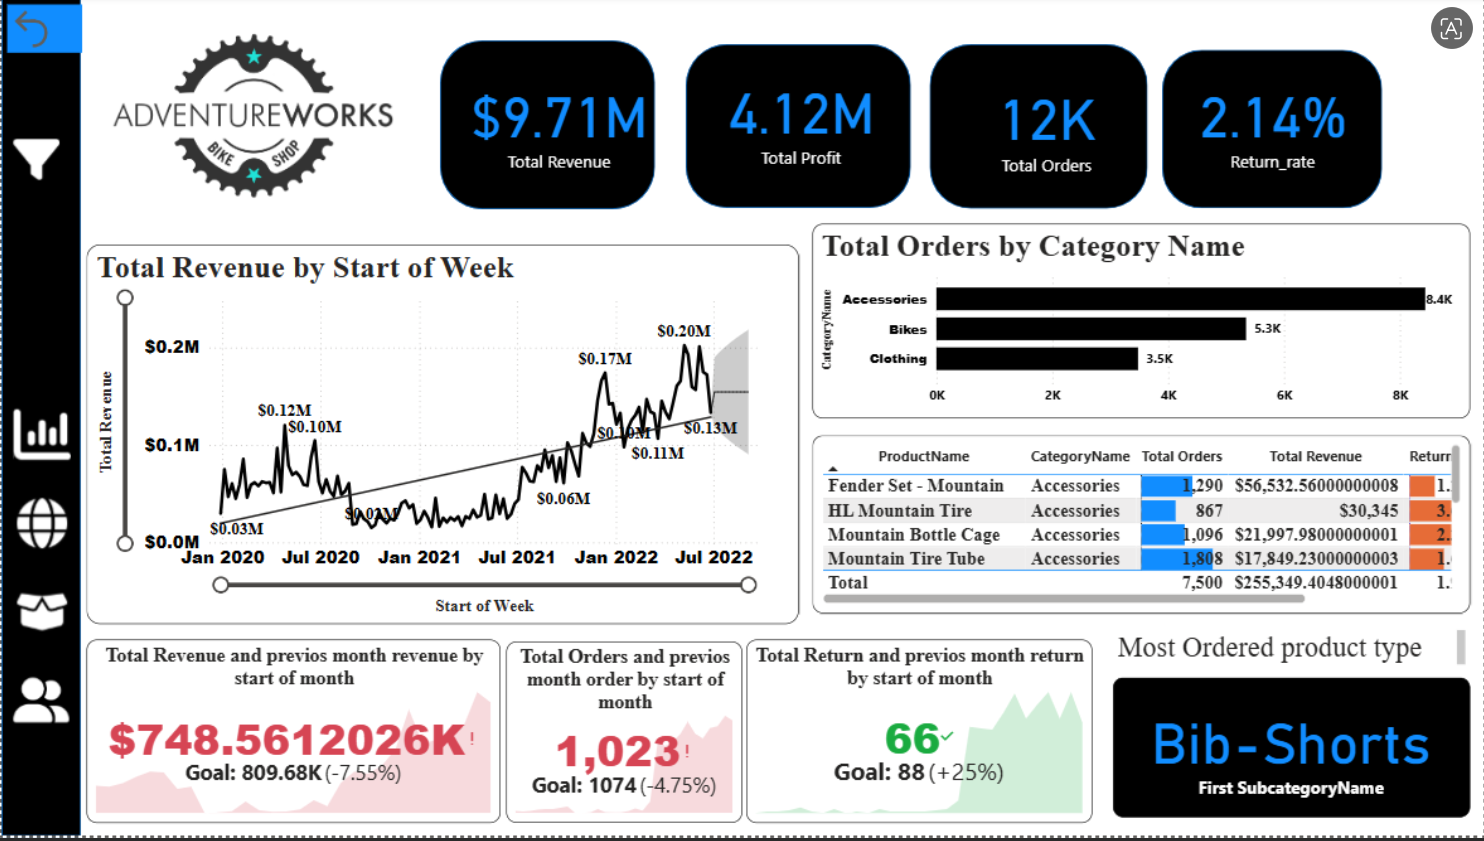

What the dashboard file says about the page in this screenshot:
{"tool":"powerbi","page":{"name":"Dashboard","canvas":[1410,800],"ordinal":0},"visuals":[{"type":"card","fields":{"Values":["Measure Table.Total Revenue"]},"box":[352.6,4.3,355.7,231.4],"z":0,"group":"g2"},{"type":"group","id":"g1","title":"KPIcards","box":[417.3,43.6,898,159.5],"z":0,"group":"g3"},{"type":"shape","box":[417.3,43.6,204.6,160.7],"z":0,"group":"g1"},{"type":"clusteredBarChart","title":"Total Orders by Category Name","fields":{"Category":["Product Categories Lookup.CategoryName","Territory Lookup.Continent Hierarchy.Continent","Territory Lookup.Continent Hierarchy.Region","Territory Lookup.Continent Hierarchy.Country"],"Y":["Measure Table.Total Orders"]},"box":[771.8,217.7,626.1,185.3],"z":0},{"type":"group","id":"g2","title":"kpi values","box":[352.6,0,975,238.3],"z":1000,"group":"g3"},{"type":"card","fields":{"Values":["Measure Table.Total Profit"]},"box":[582.4,0,355.9,231.6],"z":1000,"group":"g2"},{"type":"actionButton","box":[425.7,31.4,100,72.9],"z":1000},{"type":"shape","box":[1104.9,52.6,209.4,150.9],"z":1000,"group":"g1"},{"type":"group","id":"g3","title":"kpis","box":[352.6,0,976.9,237.5],"z":2000},{"type":"card","fields":{"Values":["Measure Table.Total Orders"]},"box":[816.1,7.7,355.6,230.6],"z":2000,"group":"g2"},{"type":"shape","box":[884.2,46.9,207.6,156.6],"z":2000,"group":"g1"},{"type":"card","fields":{"Values":["Measure Table.Return_rate"]},"box":[1092.1,4.5,235.4,232.2],"z":3000,"group":"g2"},{"type":"shape","box":[651.5,47,214.3,155.9],"z":3000,"group":"g1"},{"type":"lineChart","fields":{"Y":["Measure Table.Total Revenue"],"Category":["Calendar Lookup.Start of Week"]},"box":[81,237.5,678.3,361.6],"z":3000},{"type":"kpi","fields":{"Indicator":["Measure Table.Total Revenue"],"TrendLine":["Calendar Lookup.start of month"],"Goal":["Measure Table.previos month revenue"]},"box":[81,613.5,394,174.5],"z":4000},{"type":"kpi","fields":{"TrendLine":["Calendar Lookup.start of month"],"Indicator":["Measure Table.Total Return"],"Goal":["Measure Table.previos month return"]},"box":[708.9,613.5,329.2,174.5],"z":5000},{"type":"kpi","fields":{"TrendLine":["Calendar Lookup.start of month"],"Indicator":["Measure Table.Total Orders"],"Goal":["Measure Table.previos month order"]},"box":[480.4,615.3,224.9,172.7],"z":6000},{"type":"shape","box":[0,0,75.6,800.6],"z":7000},{"type":"actionButton","box":[5.8,9.6,71.1,46.1],"z":8000},{"type":"image","title":"Image1","box":[72,0,336.4,230.3],"z":9000},{"type":"actionButton","box":[10.8,475,68.4,55.8],"z":10000},{"type":"actionButton","box":[7.2,386.8,70.2,63],"z":11000},{"type":"actionButton","box":[7.2,640.5,73.8,61.2],"z":12000},{"type":"actionButton","box":[10.8,543.3,55.8,88.2],"z":13000},{"type":"tableEx","fields":{"Values":["Product Lookup.ProductName","Product Categories Lookup.CategoryName","Measure Table.Total Orders","Measure Table.Total Revenue","Measure Table.Return_rate","Product Subcategories Lookup.ProductCategoryKey"]},"box":[771.8,419.2,626.1,169.1],"z":14000},{"type":"actionButton","box":[7.2,127.7,52.2,57.6],"z":15000},{"type":"card","fields":{"Values":["Min(Product Subcategories Lookup.SubcategoryName)"]},"box":[1057.9,649.5,340,133.1],"z":17000},{"type":"textbox","box":[1057.9,599.1,340,50.4],"z":19000}]}

Visuals, with their boxes on the page's 1410x800 design canvas (x1, y1, x2, y2). These are canvas units, not pixel positions in the 1484x841 screenshot, which may show the page scaled, cropped or inside an application window:
card - Measure Table.Total Revenue: (left=353, top=4, right=708, bottom=236)
"KPIcards" group: (left=417, top=44, right=1315, bottom=203)
shape: (left=417, top=44, right=622, bottom=204)
"Total Orders by Category Name" clusteredBarChart: (left=772, top=218, right=1398, bottom=403)
"kpi values" group: (left=353, top=0, right=1328, bottom=238)
card - Measure Table.Total Profit: (left=582, top=0, right=938, bottom=232)
actionButton: (left=426, top=31, right=526, bottom=104)
shape: (left=1105, top=53, right=1314, bottom=204)
"kpis" group: (left=353, top=0, right=1330, bottom=238)
card - Measure Table.Total Orders: (left=816, top=8, right=1172, bottom=238)
shape: (left=884, top=47, right=1092, bottom=204)
card - Measure Table.Return_rate: (left=1092, top=4, right=1328, bottom=237)
shape: (left=652, top=47, right=866, bottom=203)
lineChart - Measure Table.Total Revenue x Calendar Lookup.Start of Week: (left=81, top=238, right=759, bottom=599)
kpi - Measure Table.Total Revenue x Calendar Lookup.start of month: (left=81, top=614, right=475, bottom=788)
kpi - Calendar Lookup.start of month x Measure Table.Total Return: (left=709, top=614, right=1038, bottom=788)
kpi - Calendar Lookup.start of month x Measure Table.Total Orders: (left=480, top=615, right=705, bottom=788)
shape: (left=0, top=0, right=76, bottom=801)
actionButton: (left=6, top=10, right=77, bottom=56)
"Image1" image: (left=72, top=0, right=408, bottom=230)
actionButton: (left=11, top=475, right=79, bottom=531)
actionButton: (left=7, top=387, right=77, bottom=450)
actionButton: (left=7, top=640, right=81, bottom=702)
actionButton: (left=11, top=543, right=67, bottom=632)
tableEx - Product Lookup.ProductName x Product Categories Lookup.CategoryName: (left=772, top=419, right=1398, bottom=588)
actionButton: (left=7, top=128, right=59, bottom=185)
card - Min(Product Subcategories Lookup.SubcategoryName): (left=1058, top=650, right=1398, bottom=783)
textbox: (left=1058, top=599, right=1398, bottom=650)
